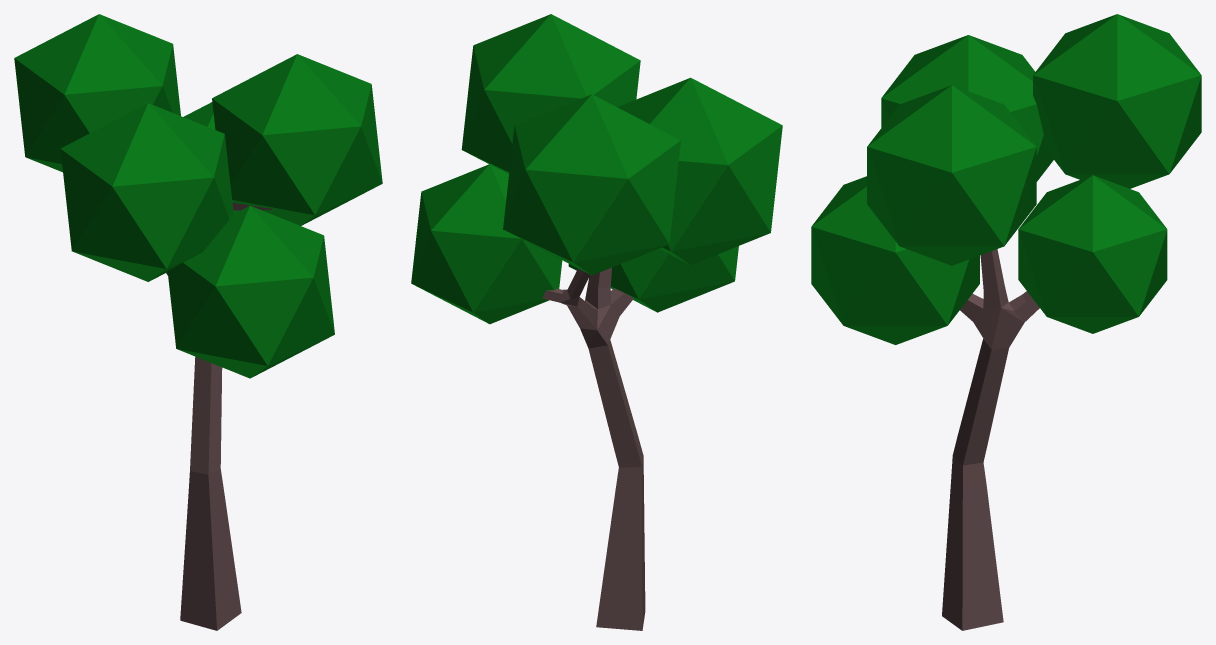
The model's file is Tree.fbx.
The picture shows the model from 3 angles, left to right: view 1: azimuth 30°, elevation 25°; view 2: azimuth 150°, elevation 25°; view 3: azimuth 270°, elevation 25°; orthographic projection. The views are drawn at different scales.
Parts seen in each view (by area): view 1: Icosphere.004, Icosphere.003, Icosphere.005, Icosphere, Cube; view 2: Icosphere, Icosphere.004, Icosphere.003, Icosphere.001, Cube, Icosphere.005; view 3: Icosphere.003, Icosphere, Icosphere.001, Icosphere.005, Cube, Icosphere.004.
Part boxes in pixels (<box>): Icosphere.004: <box>60,103,233,281</box>; Icosphere.003: <box>212,54,382,225</box>; Icosphere.005: <box>167,205,334,378</box>; Icosphere: <box>14,14,180,172</box>; Cube: <box>166,202,273,630</box>; Icosphere: <box>503,94,680,275</box>; Icosphere.004: <box>617,77,782,265</box>; Icosphere.003: <box>461,14,640,173</box>; Icosphere.001: <box>411,164,562,324</box>; Cube: <box>542,267,645,630</box>; Icosphere.005: <box>568,246,738,312</box>; Icosphere.003: <box>867,85,1036,265</box>; Icosphere: <box>1033,14,1201,188</box>; Icosphere.001: <box>1018,175,1167,333</box>; Icosphere.005: <box>811,176,979,344</box>; Cube: <box>942,249,1039,630</box>; Icosphere.004: <box>881,35,1053,181</box>.
Size of the model in its own units: 353 by 651 by 394.
